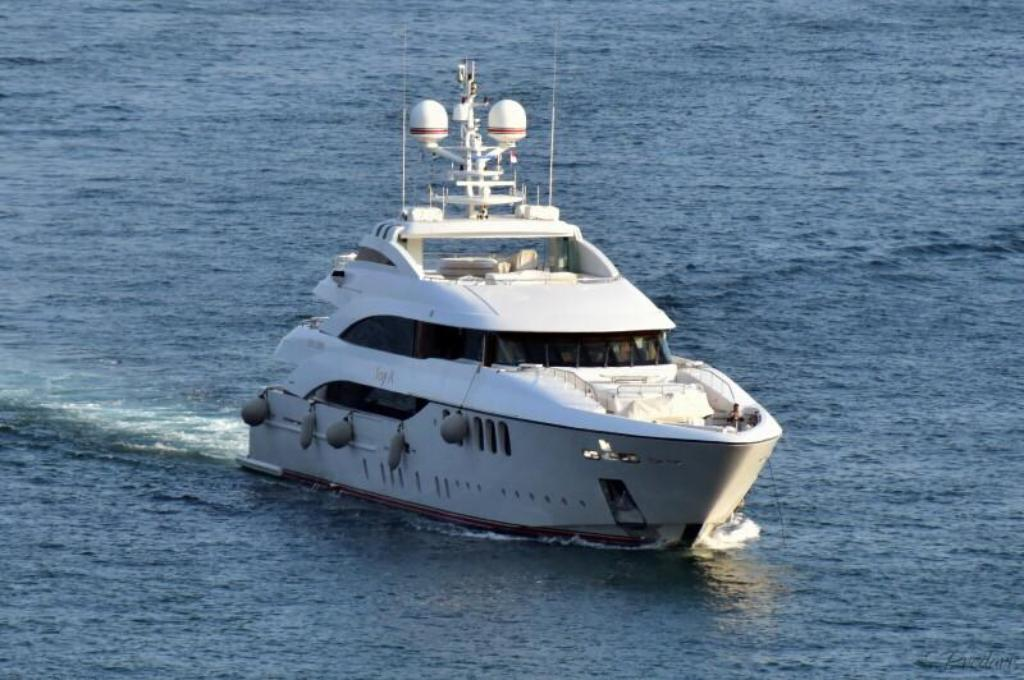PassengerShip: (236, 54, 784, 566)
